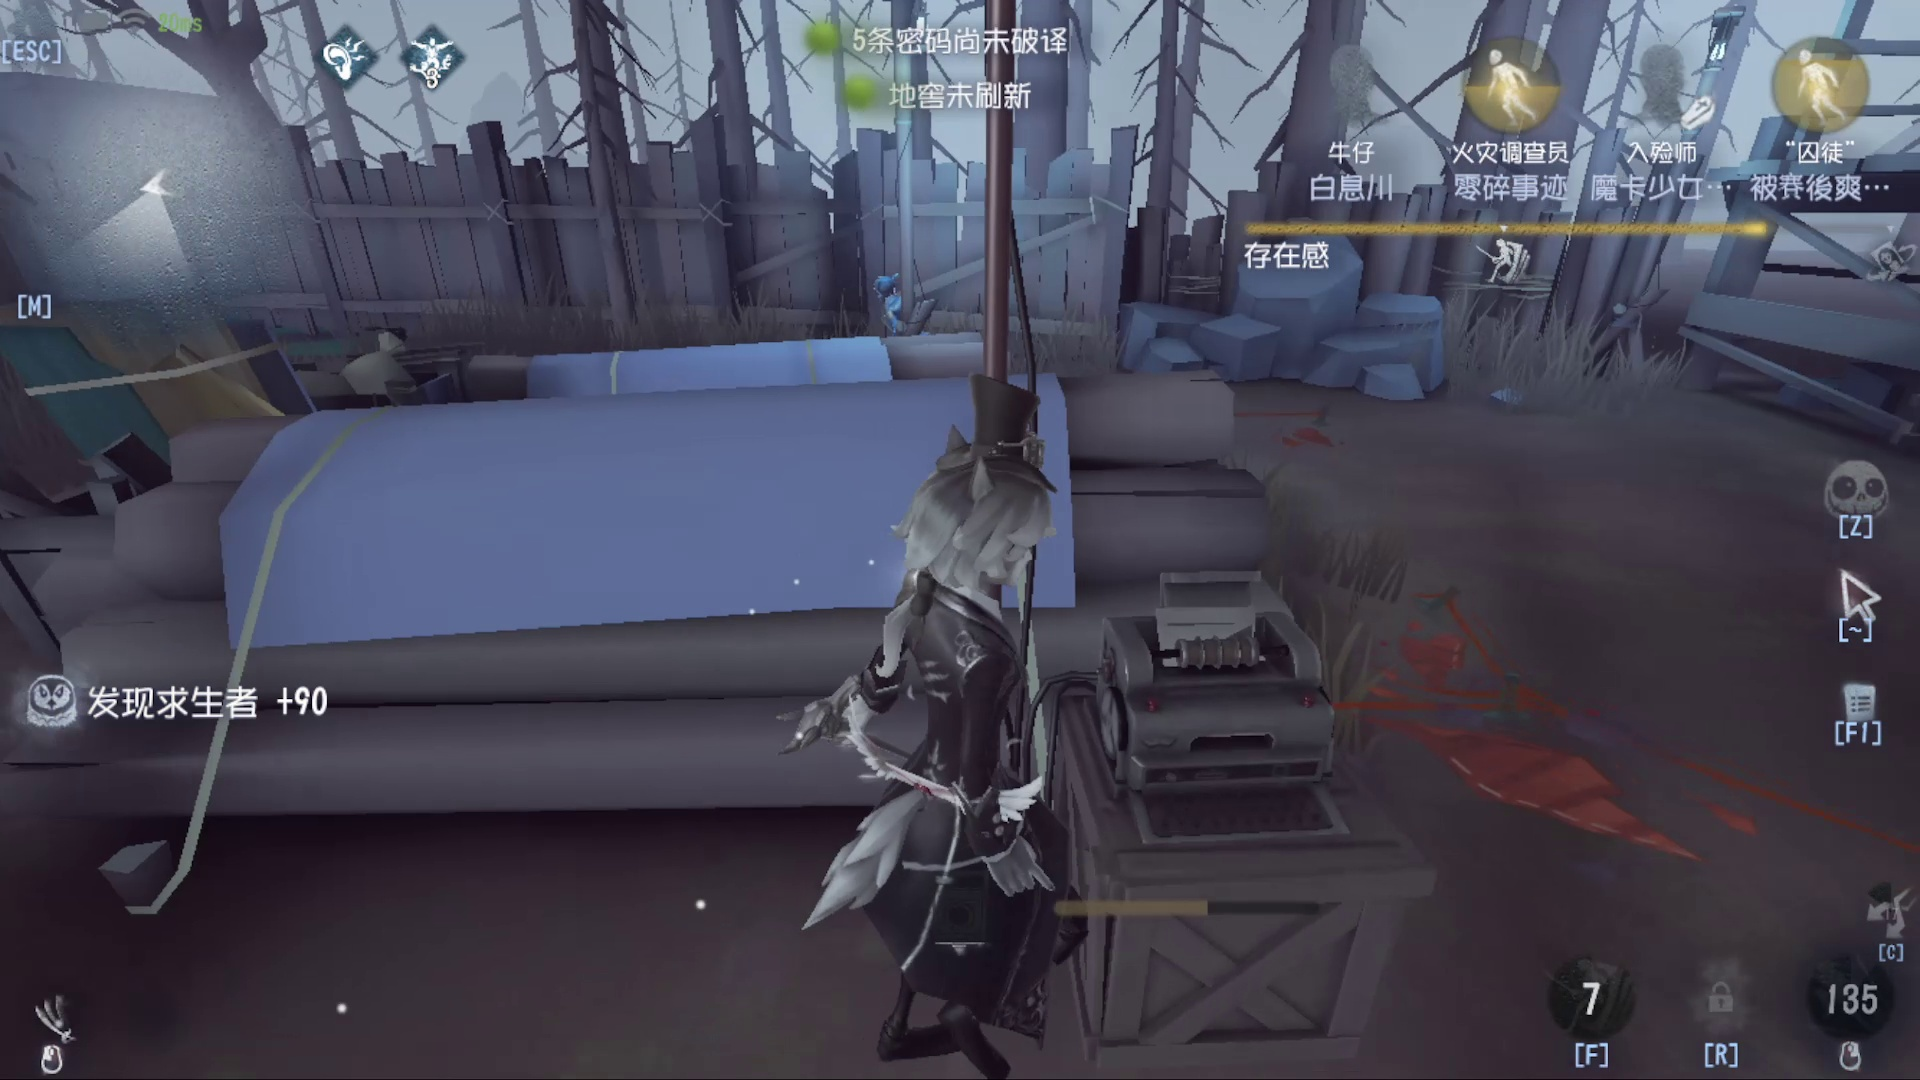密码机: (1000, 564, 1404, 1068)
木板: (16, 281, 406, 488)
求生者: (865, 266, 934, 348)
